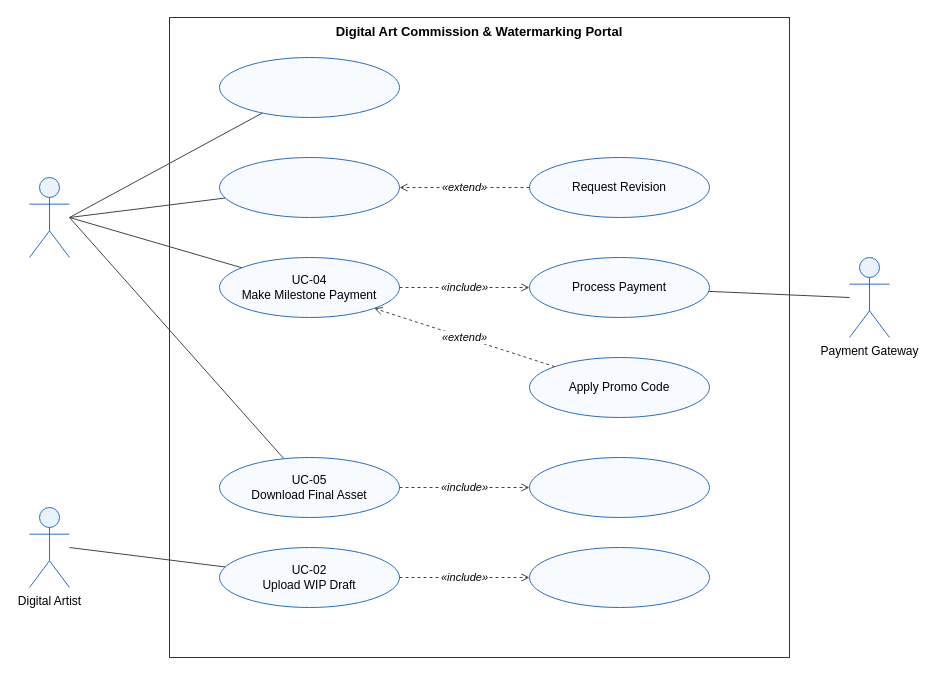
Some shapes in this 936 by 675 pixel diagram are drawn without their labels. The box of each missing label's shape, as (x1, y1, x2, y2) in pixels:
Apply Diagonal Watermark: (528, 546, 710, 608)
Client Buyer: (28, 176, 70, 258)
Generate Signed Download URL: (528, 456, 710, 518)
UC-01 Submit Creative Brief: (218, 56, 400, 118)
UC-03 Review / Approve Draft: (218, 156, 400, 218)
